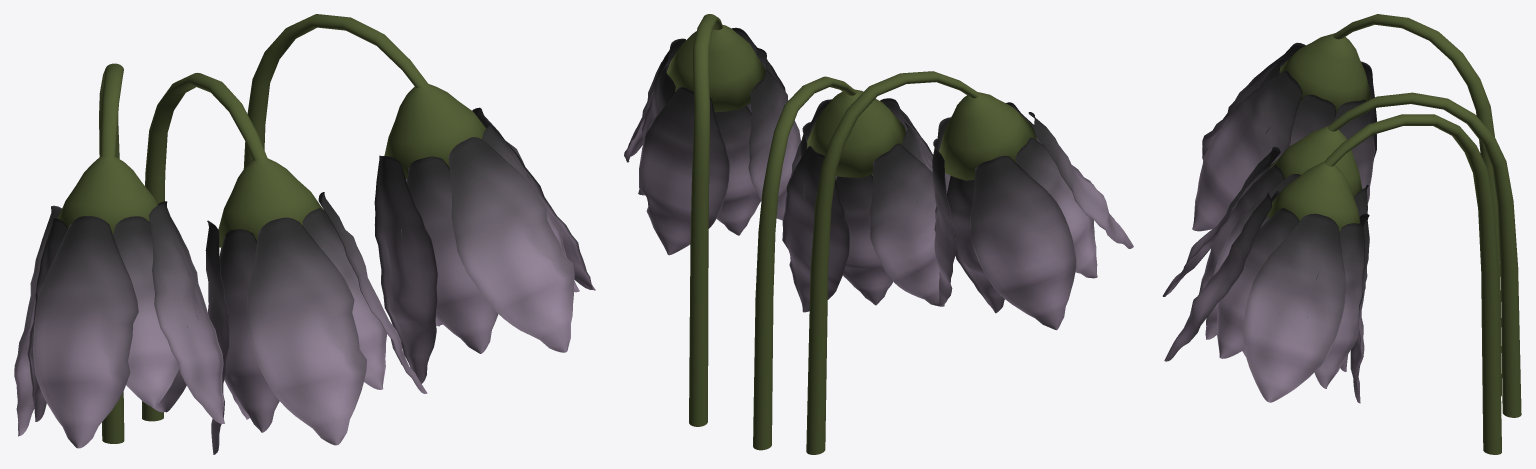
The model's file is Flowers1_Corrupted.fbx.
The picture shows the model from 3 angles, left to right: view 1: azimuth 30°, elevation 25°; view 2: azimuth 150°, elevation 25°; view 3: azimuth 270°, elevation 25°; orthographic projection. The views are drawn at different scales.
Parts seen in each view (by area): view 1: FLower1_Corrupted; view 2: FLower1_Corrupted; view 3: FLower1_Corrupted.
Boxes of the visible parts, bbox=[...] form: FLower1_Corrupted: bbox=[14, 14, 595, 454]; FLower1_Corrupted: bbox=[624, 14, 1133, 454]; FLower1_Corrupted: bbox=[1162, 14, 1521, 454].
Size of the model in its own units: 6.93 by 4.93 by 4.52.
3 materials, 2 textured.
